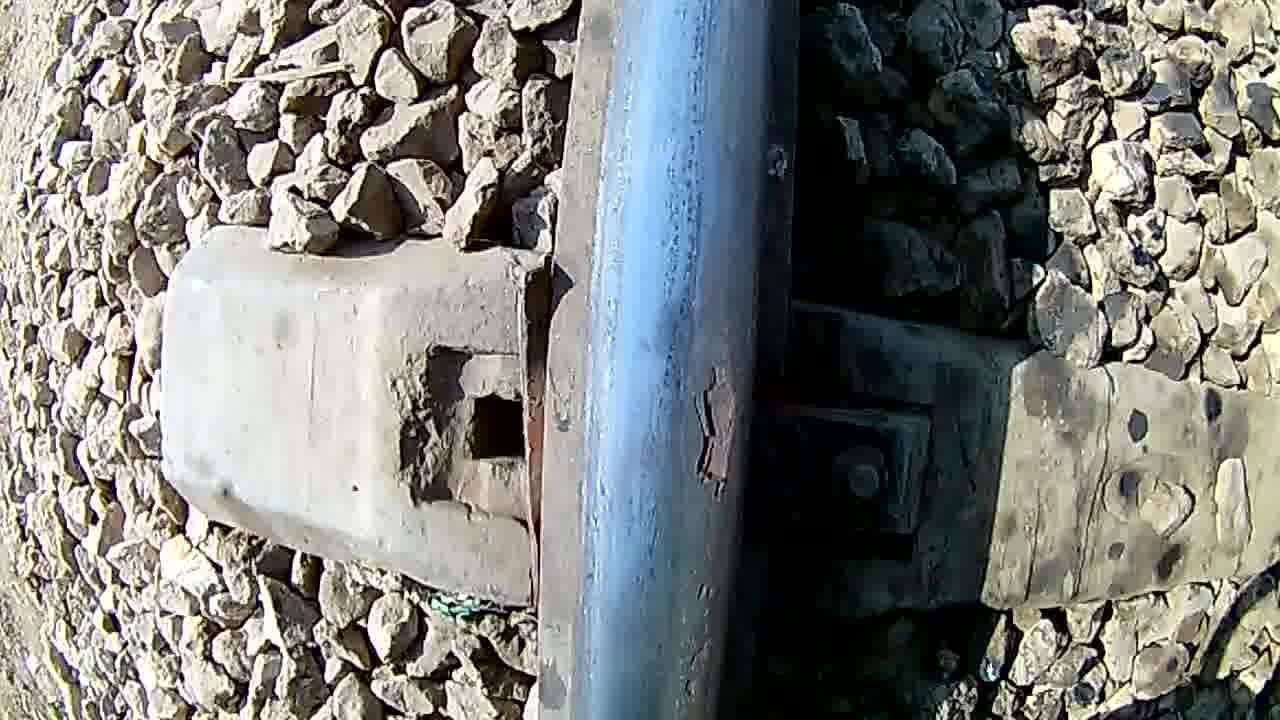crack: (564, 9, 770, 720)
